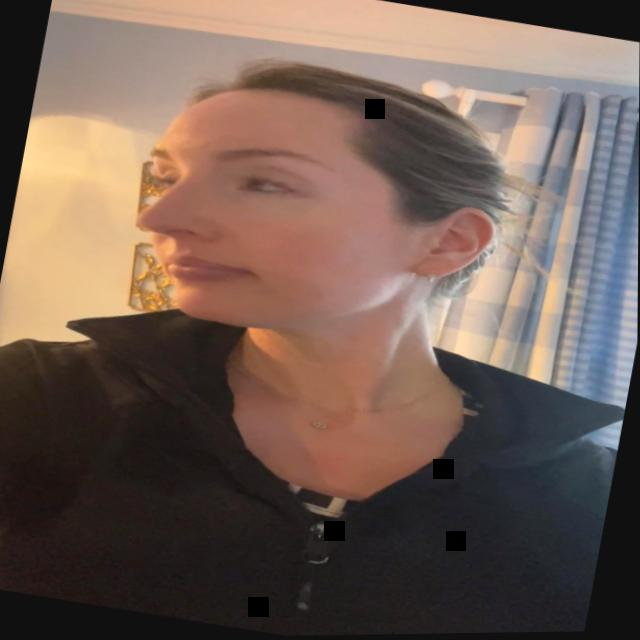NO-Mask: (116, 56, 460, 358)
